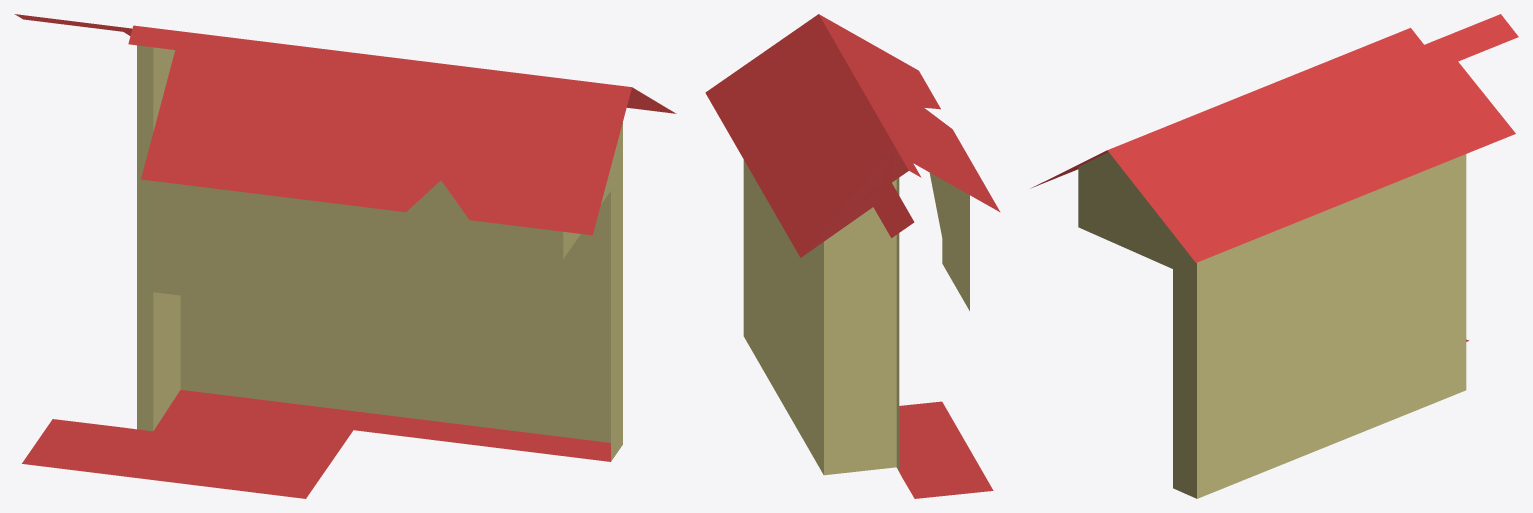
3 views of the same model, side by side, from view 1: azimuth 30°, elevation 25°; view 2: azimuth 150°, elevation 25°; view 3: azimuth 270°, elevation 25° (orthographic). The views are drawn at different scales.
Bounding box in the file's own units: 13.97 × 14.01 × 10.43.
